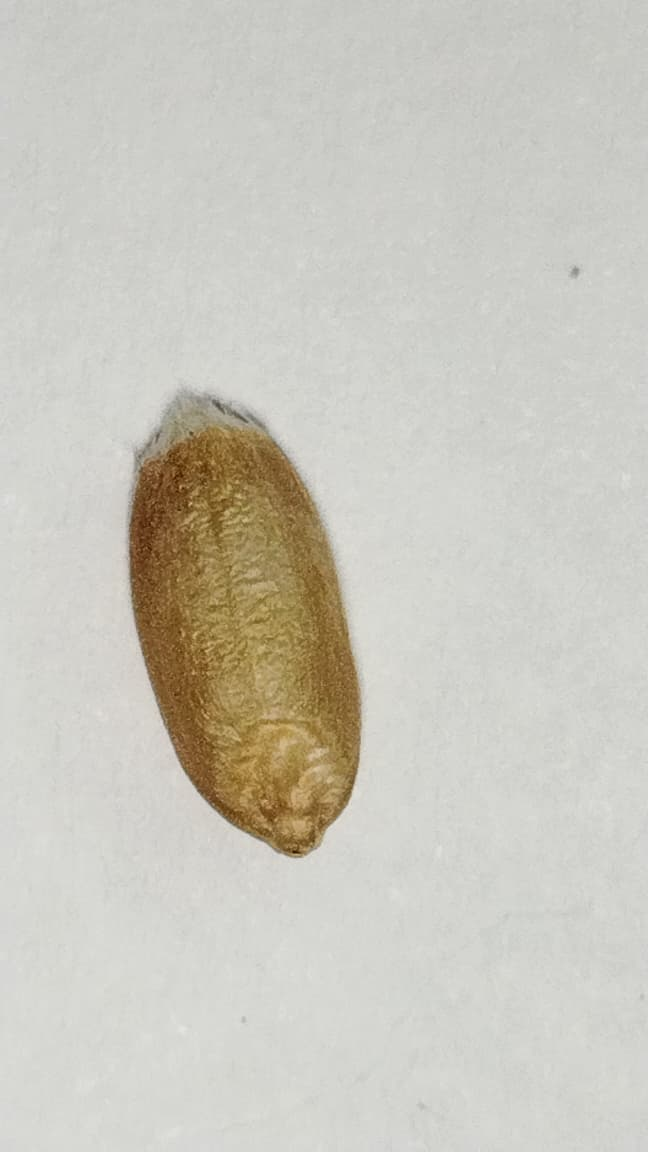healthy: (131, 394, 360, 854)
